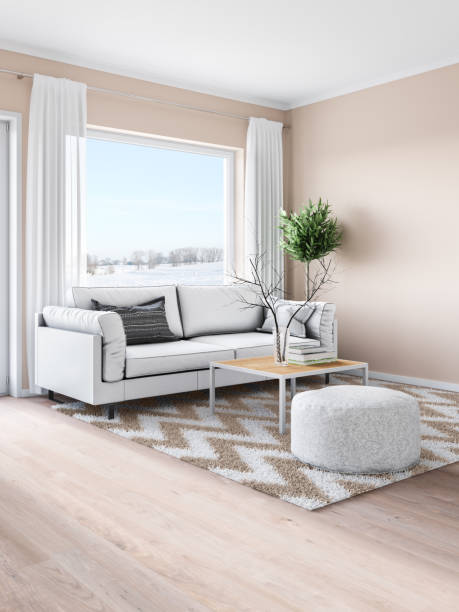large plant: (278, 196, 344, 300)
sofa: (30, 278, 341, 419)
table: (205, 357, 369, 431)
